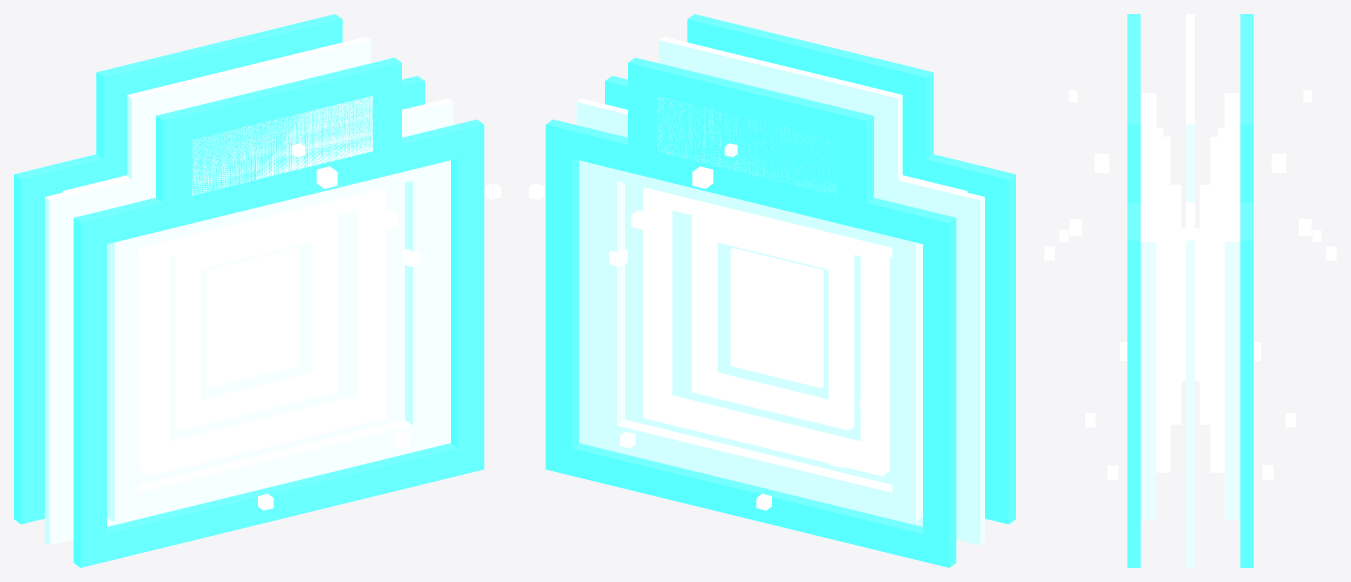
File: tt-portal-ice.glb
The picture shows the model from 3 angles, left to right: view 1: azimuth 30°, elevation 25°; view 2: azimuth 150°, elevation 25°; view 3: azimuth 270°, elevation 25°; orthographic projection. The views are drawn at different scales.
Parts seen in each view (by area): view 1: box-prop; view 2: box-prop; view 3: box-prop.
Part boxes in pixels (left/top/right/bottom): box-prop: left=14, top=14, right=500, bottom=567; box-prop: left=529, top=14, right=1015, bottom=567; box-prop: left=1044, top=14, right=1336, bottom=567.
Size of the model in its own units: 4.9 by 4.95 by 3.24.
